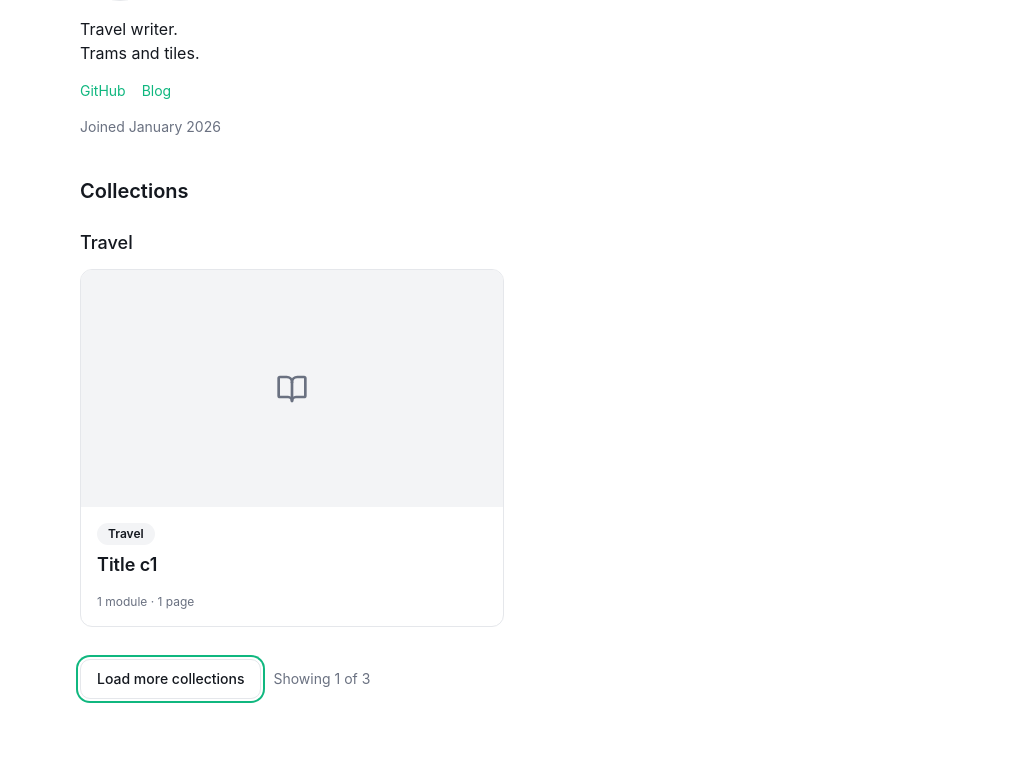
it: CreatorProfile pagination › focus stays on Load more after a page loads while more pages remain
This screenshot has width=1024, height=763.
(page scrolled)
Click the button "Load more collections".
click(171, 679)  # box [80,659,262,699]
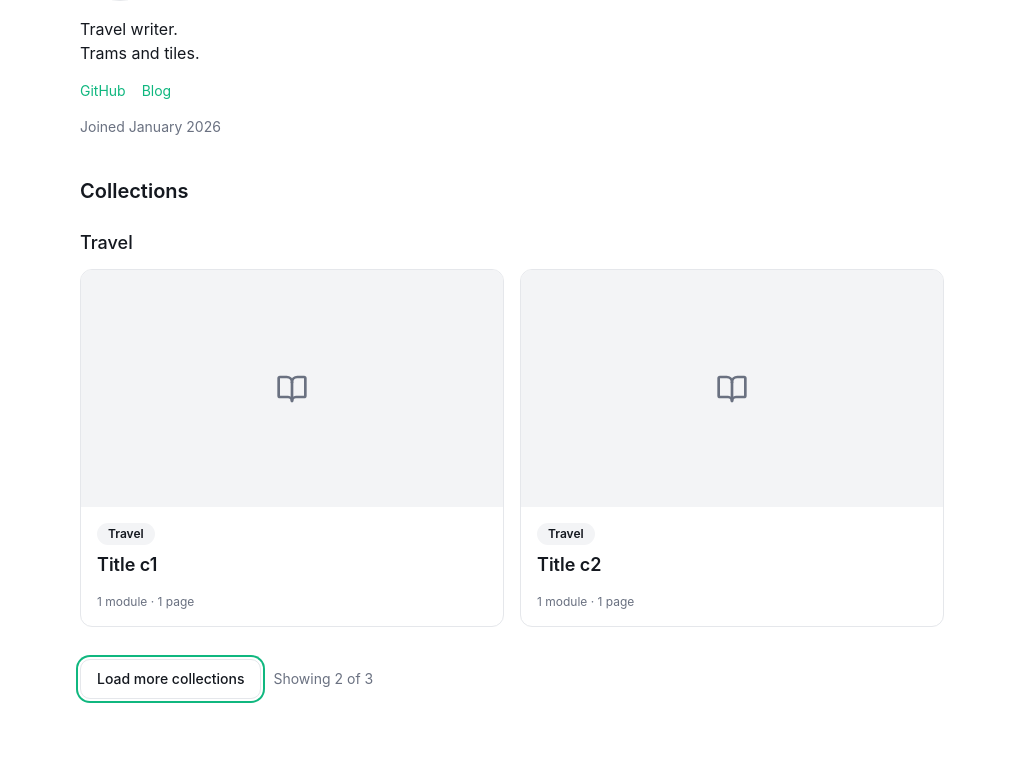
Expected: the text "Showing 2 of 3" is shown, [274,669,373,689]
